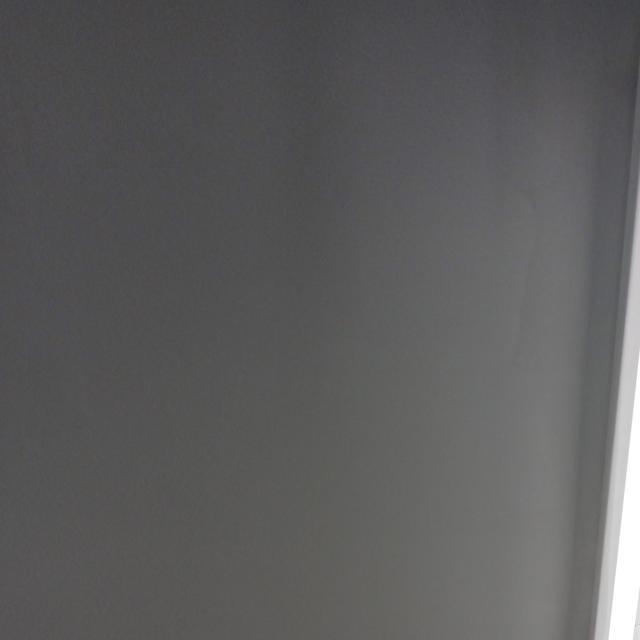fluorescent tube: (533, 15, 640, 640)
